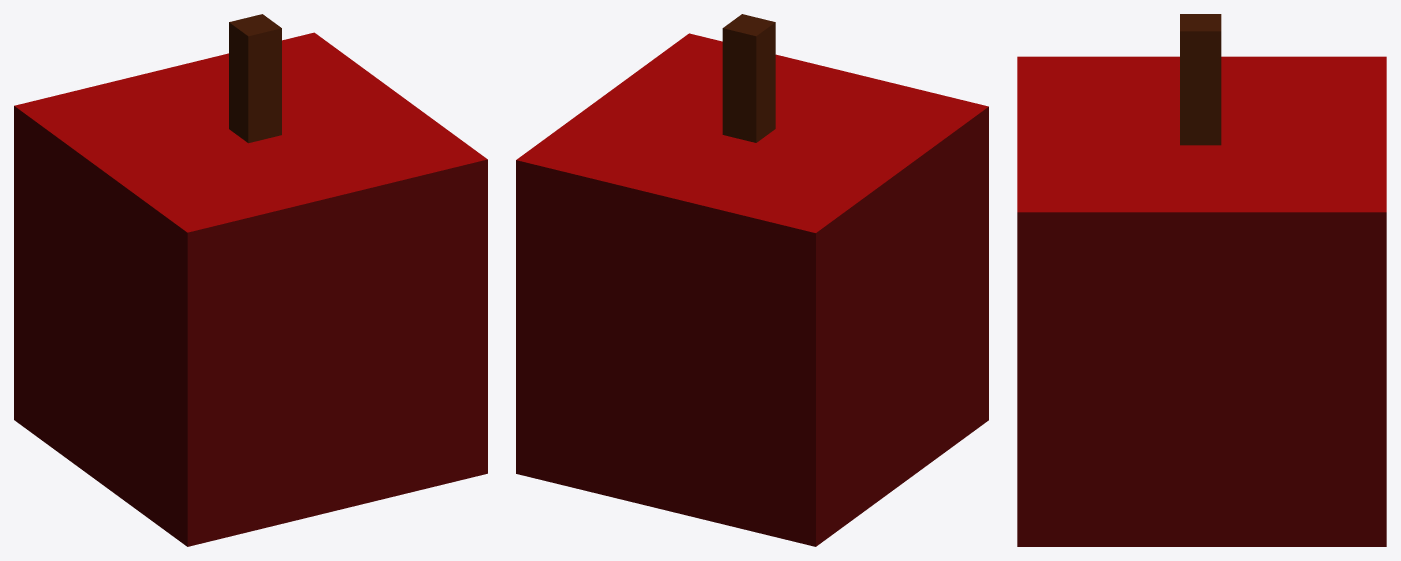
The model's file is Apple.FBX.
3 renders of one model, left to right at view 1: azimuth 30°, elevation 25°; view 2: azimuth 150°, elevation 25°; view 3: azimuth 270°, elevation 25°, orthographic. The views are drawn at different scales.
Visible parts, largest first — view 1: Object001; view 2: Object001; view 3: Object001.
Part boxes in pixels (box(x1,y1,x2,y2)): Object001: box(14, 14, 487, 546); Object001: box(516, 14, 988, 546); Object001: box(1017, 14, 1386, 546).
Size of the model in its own units: 44.72 by 59.93 by 44.72.
